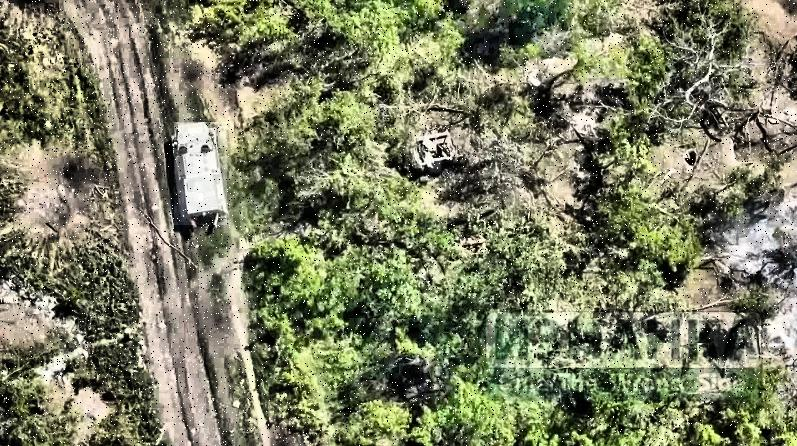military-vehicle: (175, 123, 228, 226)
